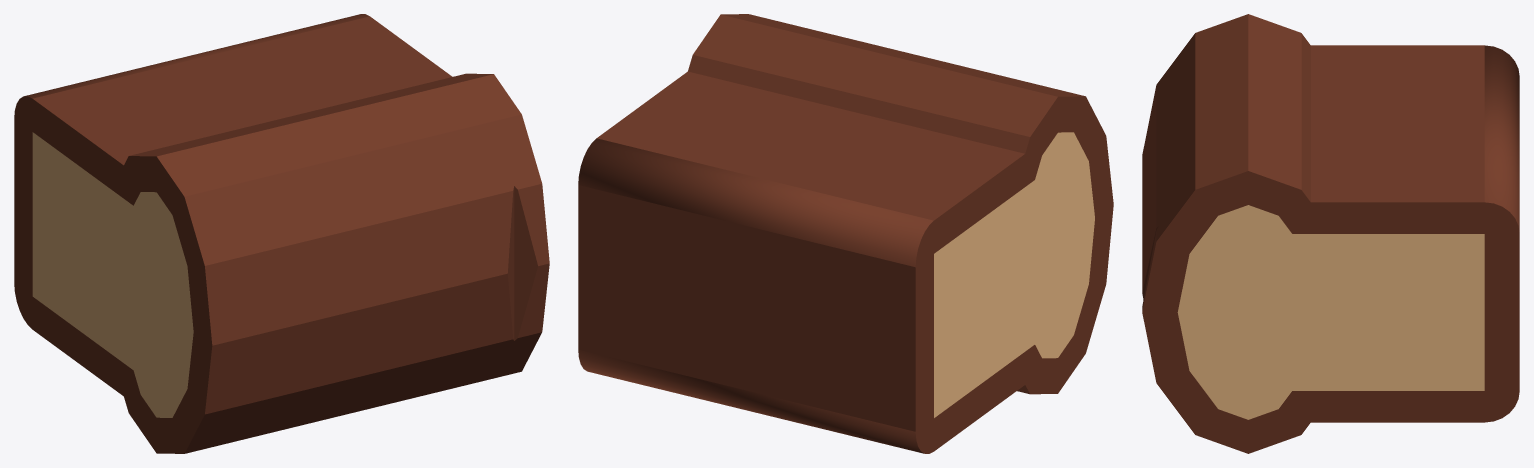
Rendered from breadS2_visual.obj.
3 views of the same model, side by side, from view 1: azimuth 30°, elevation 25°; view 2: azimuth 150°, elevation 25°; view 3: azimuth 270°, elevation 25° (orthographic). The views are drawn at different scales.
Visible parts, largest first — view 1: loaf_ID7.008; view 2: loaf_ID7.008; view 3: loaf_ID7.008.
Boxes of the visible parts, box(x1,y1,x2,y2) form: loaf_ID7.008: box(14, 14, 549, 453); loaf_ID7.008: box(578, 14, 1113, 453); loaf_ID7.008: box(1142, 14, 1519, 453).
Bounding box in the file's own units: 0.3006 × 0.2528 × 0.3056.
